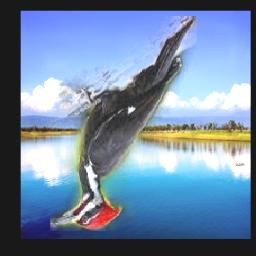Woodpecker: (51, 17, 198, 232)
